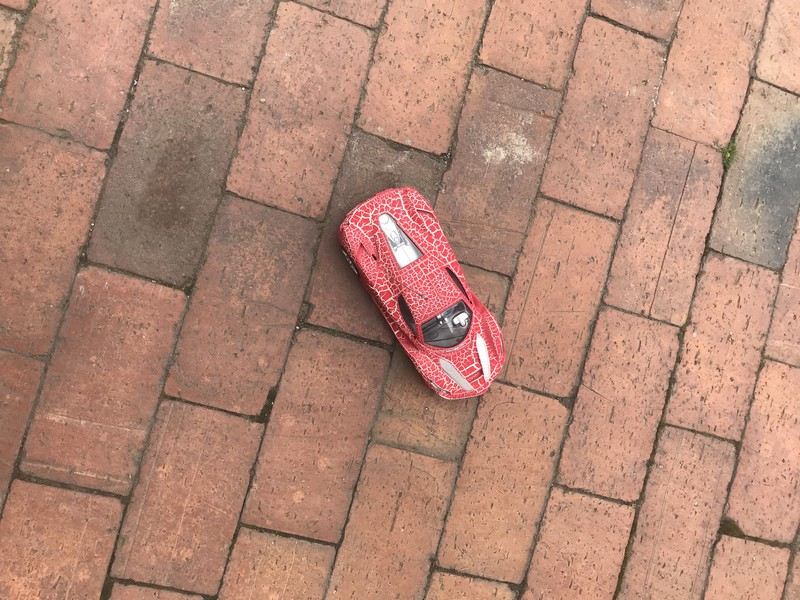RC: (335, 184, 511, 405)
